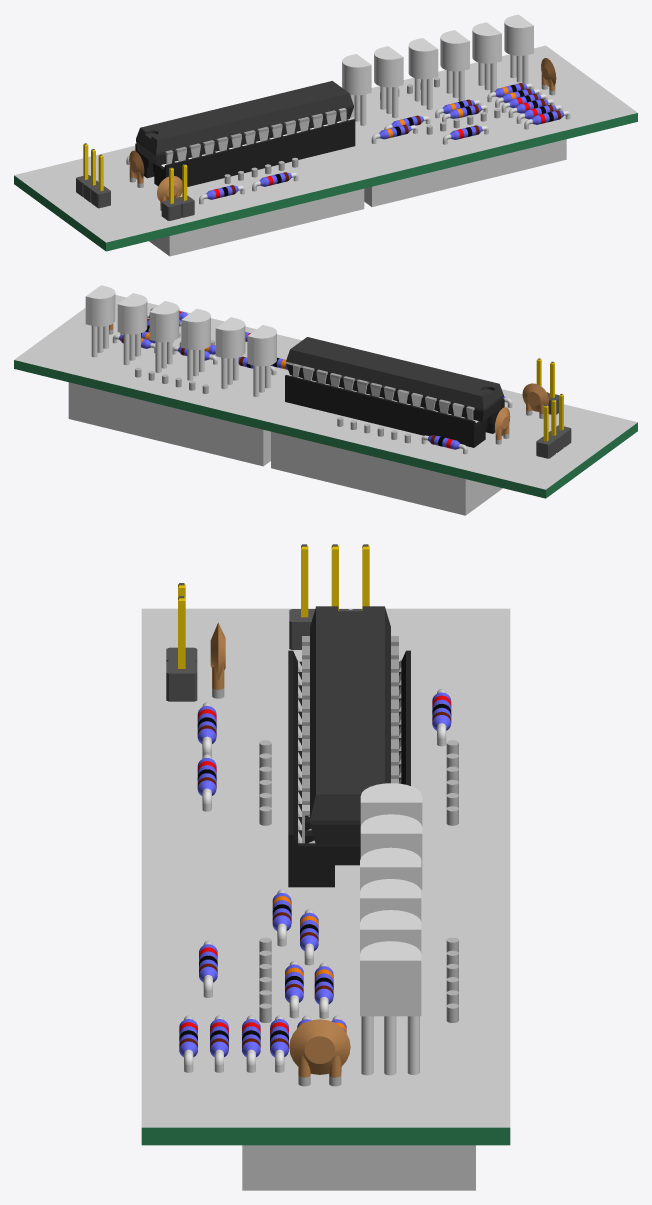
3 renders of one model, top to bottom at view 1: azimuth 30°, elevation 25°; view 2: azimuth 150°, elevation 25°; view 3: azimuth 270°, elevation 25°, orthographic. The views are drawn at different scales.
Parts seen in each view (by area): view 1: BV_PCB_001, DIL28_001, IC_Skt28_001, 3-Digit-7-Seg_001, 3-Digit-7-Seg_003, tr_body_003, tr_body_004, tr_body_002, tr_body_005, tr_body_006, tr_body_001, Square_pin_003 (+13 smaller); view 2: BV_PCB_001, DIL28_001, 3-Digit-7-Seg_003, 3-Digit-7-Seg_001, IC_Skt28_001, tr_body_006, tr_body_002, tr_body_005, tr_body_004, tr_body_001, tr_body_003, Small Cap_003 (+10 smaller); view 3: BV_PCB_001, DIL28_001, 3-Digit-7-Seg_001, IC_Skt28_001, tr_body_006, Small Cap_002, Transistor_006, 3-Digit-7-Seg_003, tr_body_002, tr_body_001, tr_body_005, tr_body_004 (+4 smaller).
Part boxes in pixels (<box>): BV_PCB_001: <box>14,45,637,251</box>; DIL28_001: <box>136,81,353,165</box>; IC_Skt28_001: <box>135,119,355,186</box>; 3-Digit-7-Seg_001: <box>364,77,566,206</box>; 3-Digit-7-Seg_003: <box>149,157,364,256</box>; tr_body_003: <box>408,38,438,79</box>; tr_body_004: <box>440,30,469,71</box>; tr_body_002: <box>374,46,403,87</box>; tr_body_005: <box>472,22,501,63</box>; tr_body_006: <box>504,14,533,55</box>; tr_body_001: <box>342,54,371,95</box>; Square_pin_003: <box>91,154,110,208</box>; BV_PCB_001: <box>14,295,637,498</box>; DIL28_001: <box>285,337,503,421</box>; 3-Digit-7-Seg_003: <box>271,417,502,515</box>; 3-Digit-7-Seg_001: <box>68,340,270,466</box>; IC_Skt28_001: <box>285,375,504,447</box>; tr_body_006: <box>85,285,115,326</box>; tr_body_002: <box>215,317,245,358</box>; tr_body_005: <box>117,293,147,334</box>; tr_body_004: <box>149,301,179,342</box>; tr_body_001: <box>247,325,276,366</box>; tr_body_003: <box>181,308,210,349</box>; Small Cap_003: <box>522,383,548,418</box>; BV_PCB_001: <box>141,608,510,1145</box>; DIL28_001: <box>302,606,398,845</box>; 3-Digit-7-Seg_001: <box>242,937,475,1190</box>; IC_Skt28_001: <box>288,650,410,887</box>; tr_body_006: <box>360,941,421,1016</box>; Small Cap_002: <box>289,1019,350,1086</box>; Transistor_006: <box>361,1016,419,1075</box>; 3-Digit-7-Seg_003: <box>259,740,458,825</box>; tr_body_002: <box>360,814,422,889</box>; tr_body_001: <box>360,783,422,826</box>; tr_body_005: <box>360,910,421,953</box>; tr_body_004: <box>360,879,421,922</box>.
Bounding box in the file's own units: 100 × 20.36 × 30.
